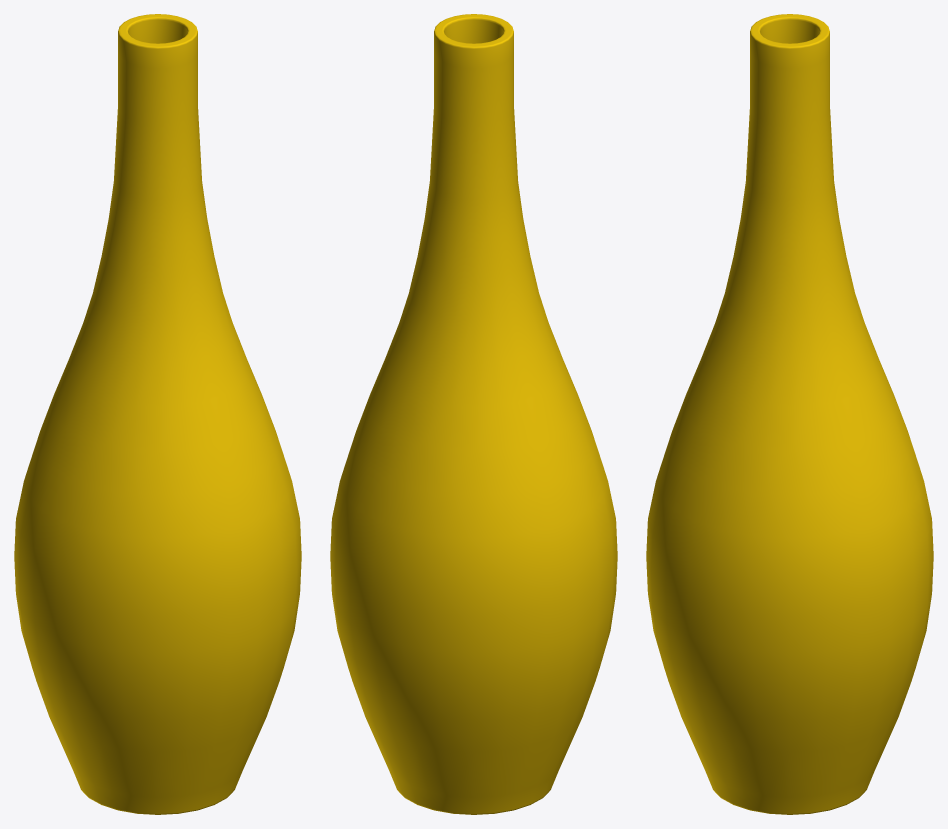
The model's file is VaseYellow.glb.
3 views of the same model, side by side, from view 1: azimuth 30°, elevation 25°; view 2: azimuth 150°, elevation 25°; view 3: azimuth 270°, elevation 25° (orthographic).
Visible parts, largest first — view 1: Vase_01; view 2: Vase_01; view 3: Vase_01.
Boxes of the visible parts, x1,y1,x2,y2 form: Vase_01: [14, 14, 301, 814]; Vase_01: [330, 14, 617, 814]; Vase_01: [646, 14, 933, 814].
Bounding box in the file's own units: 10.4 × 30 × 10.4.
